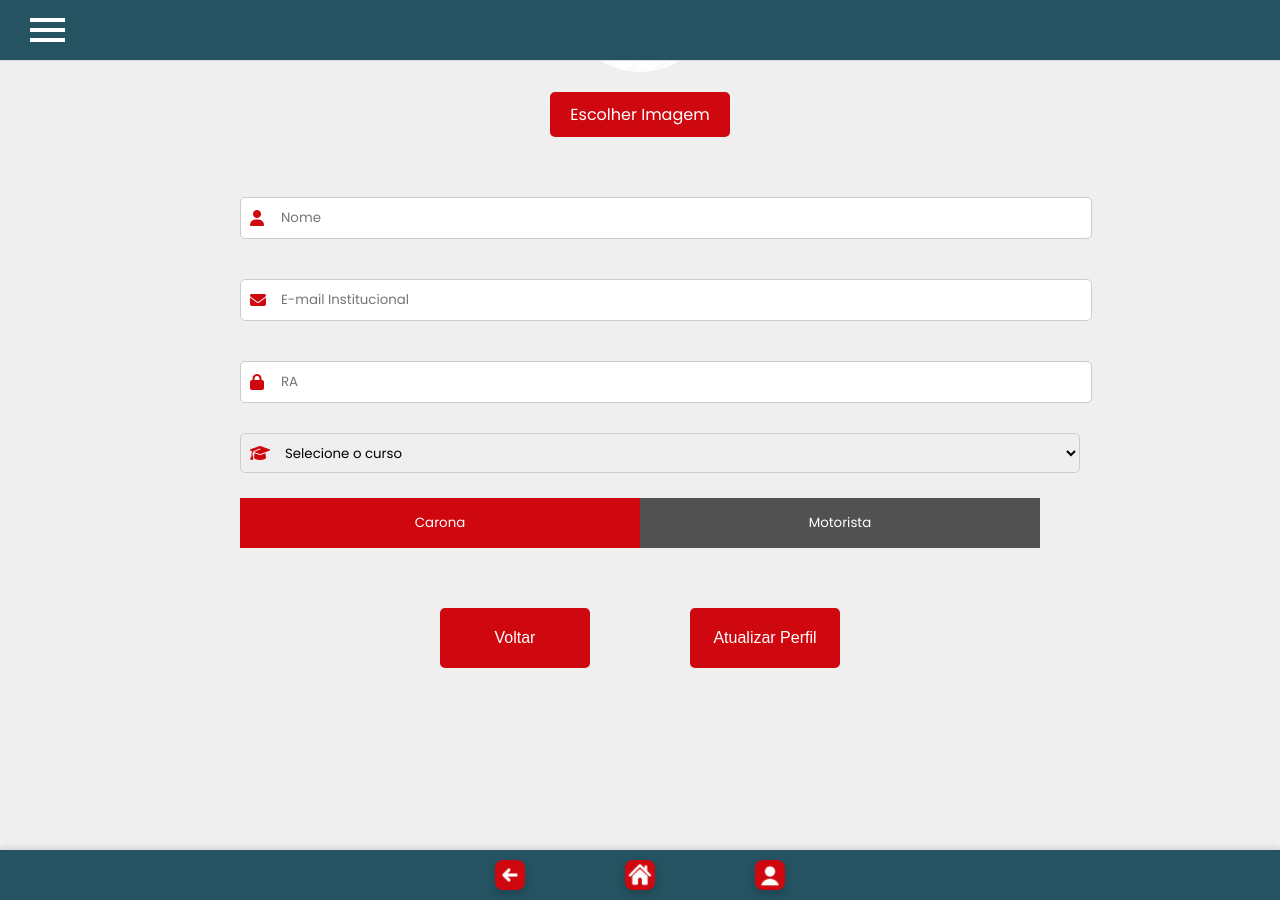
EditarPerfil Component › validates form inputs
(page scrolled)
Click the button "Atualizar Perfil": (765, 638) [690, 608, 840, 668]
(page scrolled)
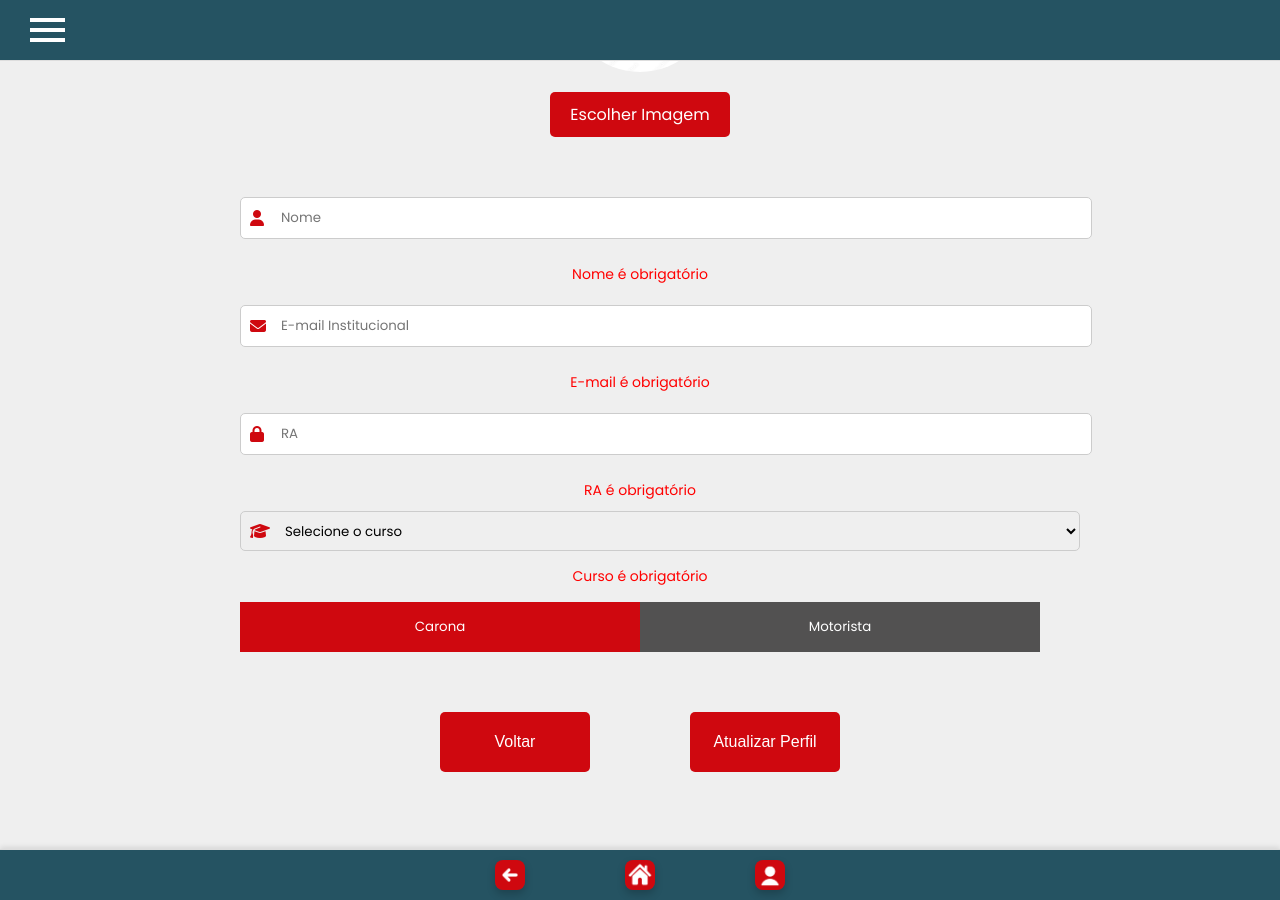
Result: the text "Nome é obrigatório" is shown at [572, 264, 708, 285]
Result: the text "E-mail é obrigatório" is shown at [570, 372, 710, 393]
Result: the text "RA é obrigatório" is shown at [584, 480, 696, 501]
